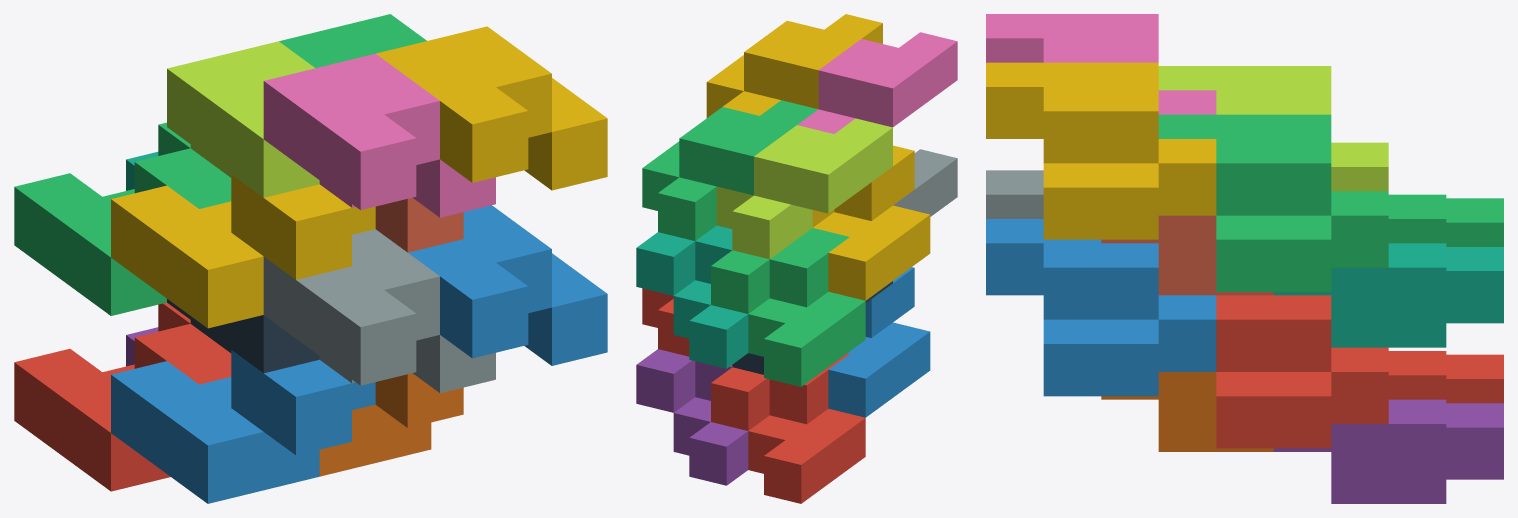
The model's file is tiling.obj.
3 renders of one model, left to right at view 1: azimuth 30°, elevation 25°; view 2: azimuth 150°, elevation 25°; view 3: azimuth 270°, elevation 25°, orthographic. The views are drawn at different scales.
Parts seen in each view (by area): view 1: copy_1_domain_2, copy_1_domain_4, copy_2_domain_4, copy_2_domain_8, copy_2_domain_2, copy_2_domain_6, copy_1_domain_3, copy_1_domain_1, copy_2_domain_3, copy_1_domain_6, copy_2_domain_7, copy_2_domain_1 (+1 smaller); view 2: copy_1_domain_3, copy_2_domain_3, copy_1_domain_1, copy_2_domain_7, copy_2_domain_4, copy_1_domain_4, copy_2_domain_8, copy_1_domain_7, copy_1_domain_2, copy_1_domain_5, copy_2_domain_2, copy_2_domain_5 (+1 smaller); view 3: copy_2_domain_8, copy_2_domain_6, copy_2_domain_7, copy_2_domain_5, copy_1_domain_7, copy_1_domain_5, copy_2_domain_3, copy_2_domain_4, copy_1_domain_1, copy_1_domain_3, copy_1_domain_8, copy_1_domain_6 (+1 smaller).
Part boxes in pixels (x1,y1,x2,y2): copy_1_domain_2: (111,350,375,503); copy_1_domain_4: (111,174,375,328); copy_2_domain_4: (263,53,495,217); copy_2_domain_8: (376,26,607,190); copy_2_domain_2: (263,229,495,393); copy_2_domain_6: (408,205,607,365); copy_1_domain_3: (14,122,231,315); copy_1_domain_1: (14,302,231,491); copy_2_domain_3: (167,41,319,197); copy_1_domain_6: (319,373,463,476); copy_2_domain_7: (279,14,426,68); copy_2_domain_1: (167,299,319,373); copy_1_domain_3: (711,228,865,386); copy_2_domain_3: (716,118,892,259); copy_1_domain_1: (711,353,865,503); copy_2_domain_7: (642,100,817,240); copy_2_domain_4: (797,32,957,133); copy_1_domain_4: (812,145,930,300); copy_2_domain_8: (706,14,882,117); copy_1_domain_7: (636,225,748,368); copy_1_domain_2: (828,267,930,417); copy_1_domain_5: (636,349,748,485); copy_2_domain_2: (893,149,957,216); copy_2_domain_5: (642,288,689,356); copy_2_domain_8: (986,62,1216,239); copy_2_domain_6: (986,219,1216,396); copy_2_domain_7: (1158,114,1388,291); copy_2_domain_5: (1216,295,1388,448); copy_1_domain_7: (1273,243,1503,347); copy_1_domain_5: (1273,399,1503,503); copy_2_domain_3: (1158,66,1388,191); copy_2_domain_4: (986,14,1216,114); copy_1_domain_1: (1388,351,1503,403); copy_1_domain_3: (1388,194,1503,246); copy_1_domain_8: (1101,215,1273,295); copy_1_domain_6: (1101,372,1273,451).
Size of the model in its own units: 6 by 8 by 9.
